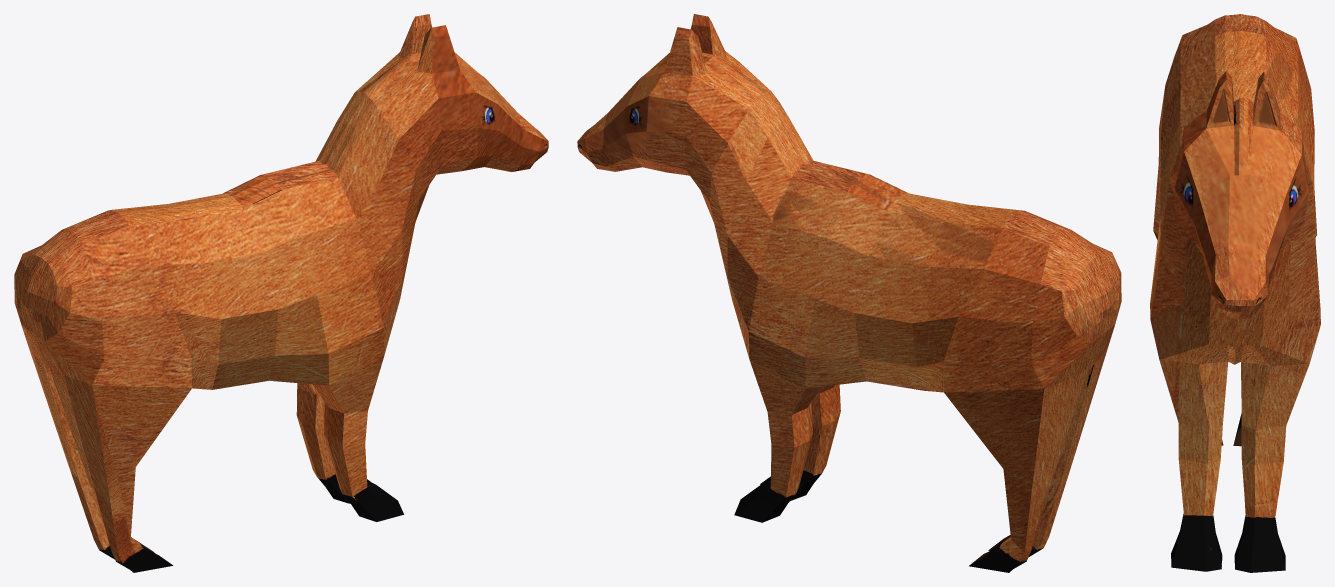
The model's file is pony plane v1_12_mirrored_FMODEL_teksturki po kolorowaniu FIN.fbx.
3 views of the same model, side by side, from view 1: azimuth 30°, elevation 25°; view 2: azimuth 150°, elevation 25°; view 3: azimuth 270°, elevation 25° (orthographic). The views are drawn at different scales.
Parts seen in each view (by area): view 1: Plane; view 2: Plane; view 3: Plane.
Part boxes in pixels (x1=…): Plane: x1=14, y1=14, x2=548, y2=572; Plane: x1=577, y1=14, x2=1121, y2=572; Plane: x1=1150, y1=14, x2=1320, y2=572.
Size of the model in its own units: 266 by 227 by 66.14.
